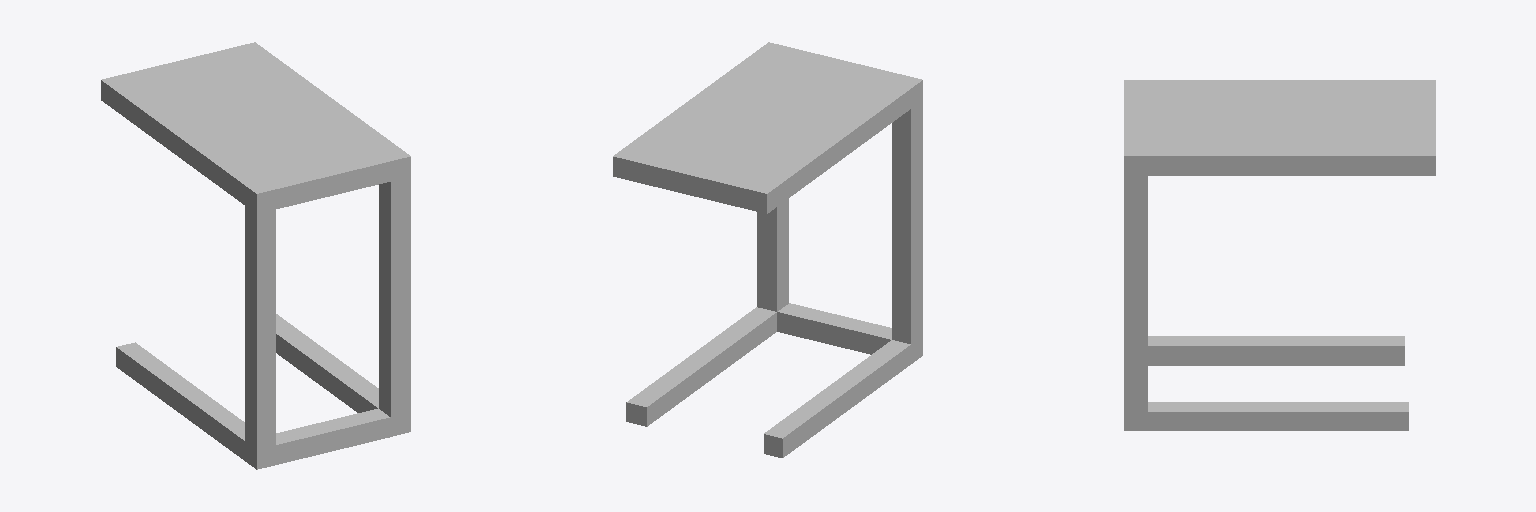
The model's file is SmallTable1.obj.
The picture shows the model from 3 angles: view 1: azimuth 30°, elevation 25°; view 2: azimuth 150°, elevation 25°; view 3: azimuth 270°, elevation 25°; orthographic projection.
Parts seen in each view (by area): view 1: Cube_Cube.001; view 2: Cube_Cube.001; view 3: Cube_Cube.001.
Part boxes in pixels (bbox=[...]): Cube_Cube.001: bbox=[101, 42, 410, 469]; Cube_Cube.001: bbox=[613, 42, 922, 457]; Cube_Cube.001: bbox=[1124, 80, 1435, 430].
Bounding box in the file's own units: 1.6 × 2.73 × 2.8.